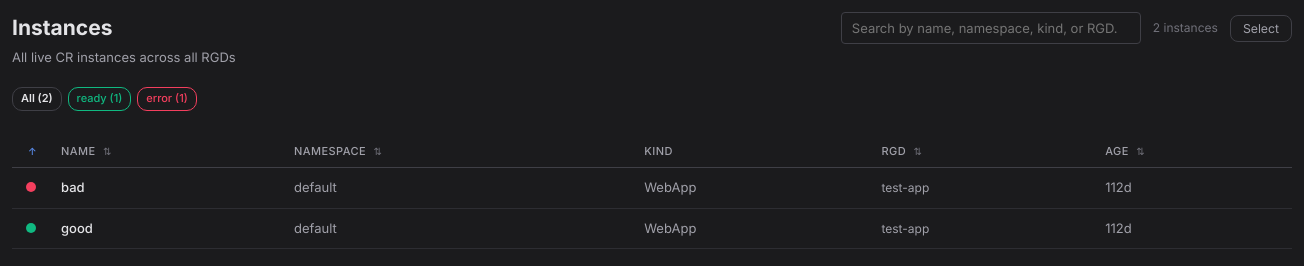
it: InstancesPage › clicking a health chip filters the table
Expected: the table with test id "instances-table" is shown, [12,135,1292,249]
Click the button with test id "instances-health-chip-error" at (167, 99), box [137,87,197,111]
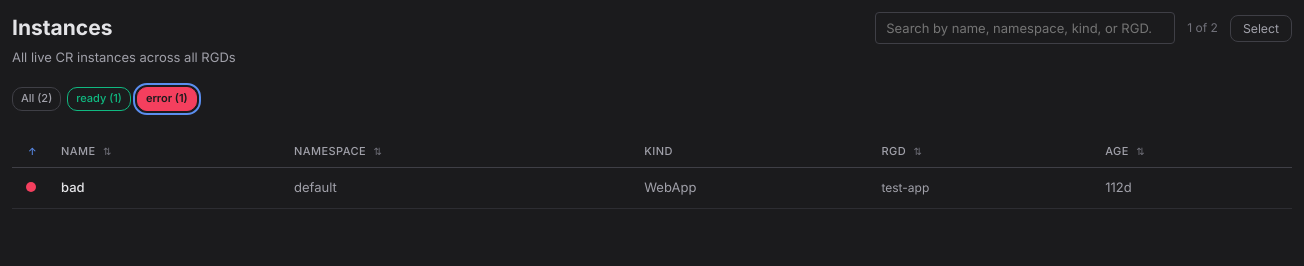
Expected: the row with test id "instances-row" shows "bad", [61,179,85,195]
Now the number of rows with test id "instances-row" is 1, box [12,168,1292,208]
